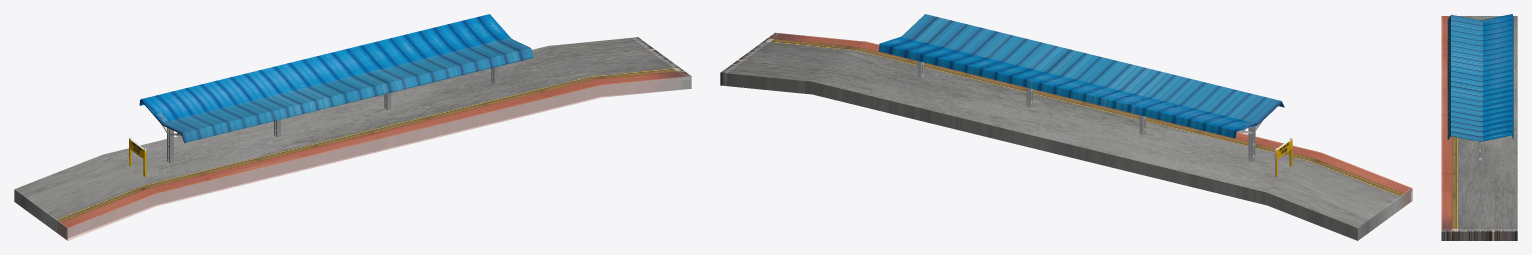
File: platform.glb
3 renders of one model, left to right at view 1: azimuth 30°, elevation 25°; view 2: azimuth 150°, elevation 25°; view 3: azimuth 270°, elevation 25°, orthographic. The views are drawn at different scales.
Parts seen in each view (by area): view 1: Object_2, Object_3; view 2: Object_2, Object_3; view 3: Object_2, Object_3.
Boxes of the visible parts, <box> form: Object_2: <box>14,37,691,240</box>; Object_3: <box>129,14,533,176</box>; Object_2: <box>720,32,1412,240</box>; Object_3: <box>878,14,1292,177</box>; Object_2: <box>1441,16,1517,240</box>; Object_3: <box>1447,14,1513,163</box>.
Size of the model in its own units: 10.24 by 1.18 by 1.52.
Materials: 2 (2 with a texture image).
